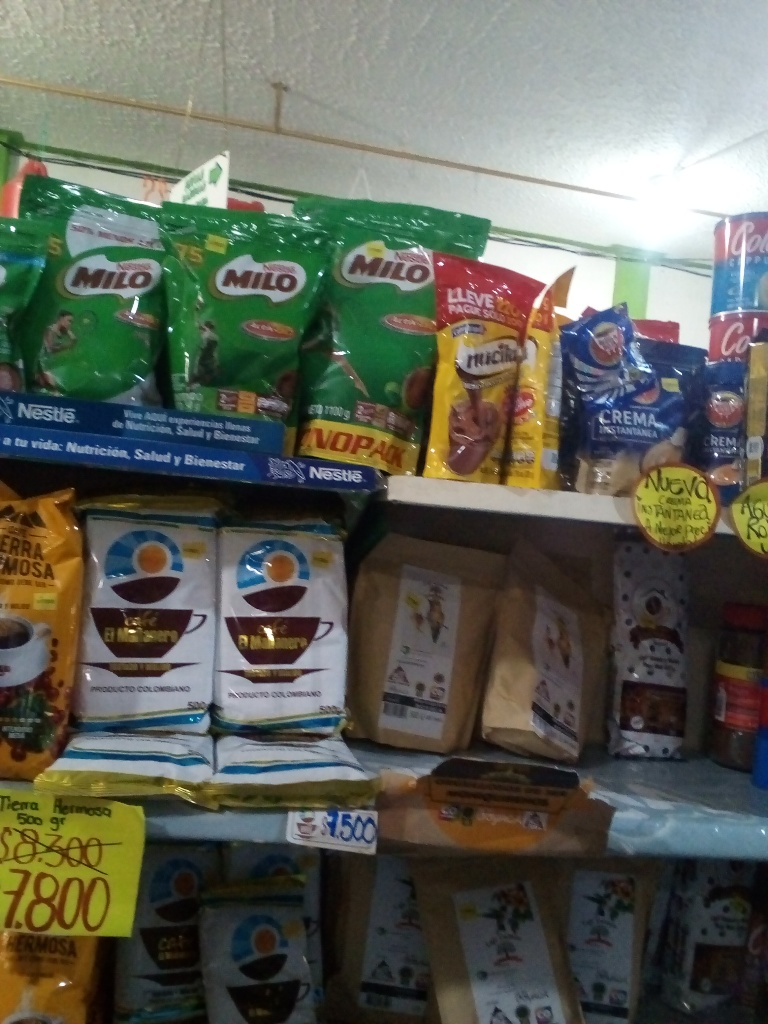COL0170203DYP50000: (149, 200, 340, 424)
COL0170205DYP50000: (23, 189, 172, 407)
